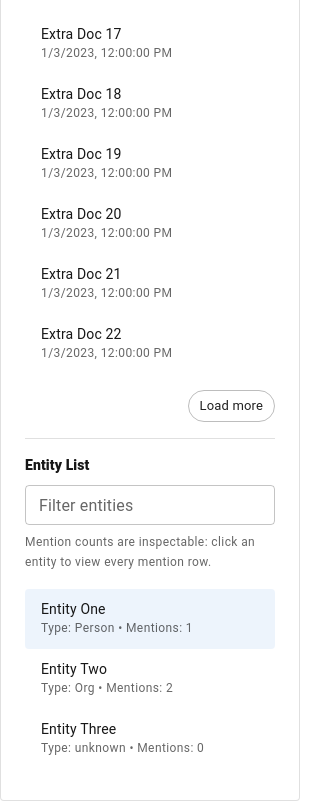
Test: EvidenceExplorer › handles load more documents
(page scrolled)
Click the button "Load more".
click(231, 406)  # box [188,390,275,422]
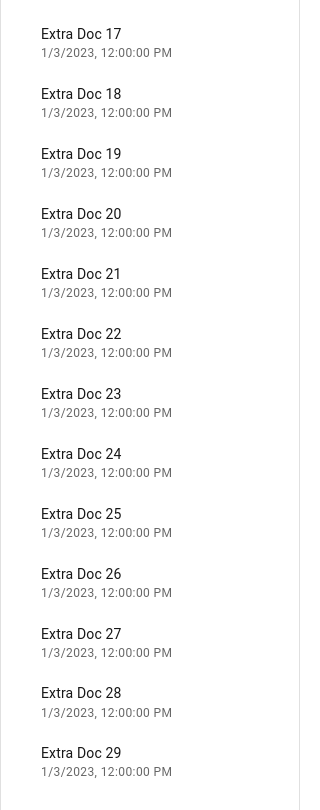
Now the text "Extra Doc 25" is shown, box [41,506,122,522]
